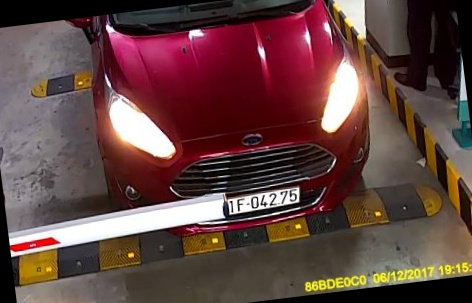plate: (218, 187, 308, 223)
